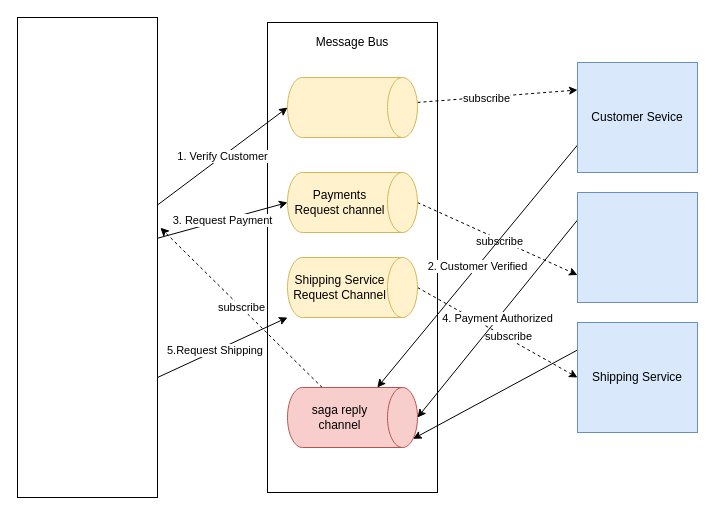
Image size: 715x515. Some labels were removed from this diagram. Here are the shapes that lost their labels. From the top down, the centre of each, then its label:
At [352,107]: "Customer Verification Channel".
At [87,257]: "Create Order Orchestrator".
At [637,247]: "Payment Service".
